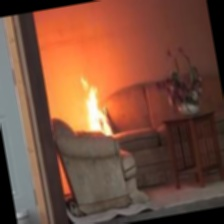fire: (69, 74, 114, 134)
